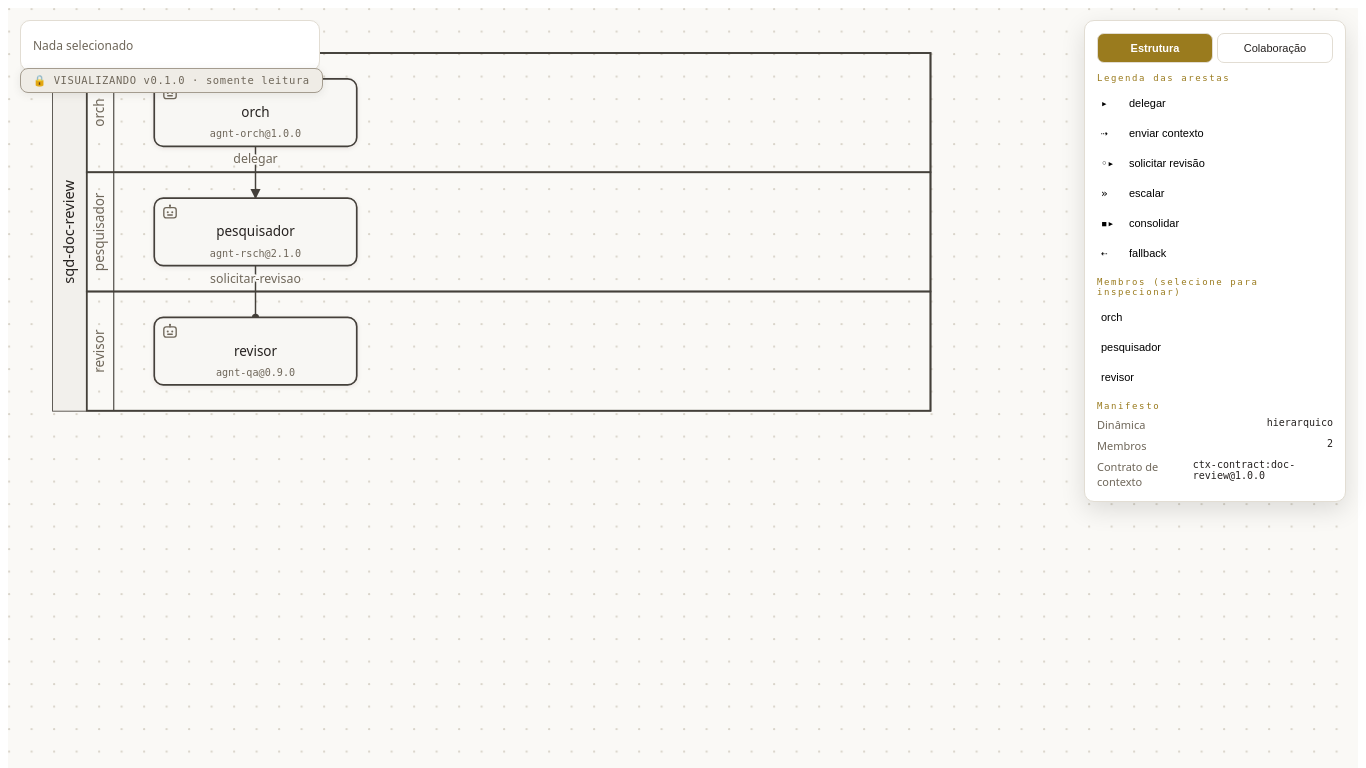
Test: SquadStudio — a standard BPMN diagram over the existing editor (SL-9) › Wave-3: the governance tab degrades without a context contract
The image size is (1366, 768).
Click the button "revisor": coordinates (1215, 377) [1097,363,1333,391]
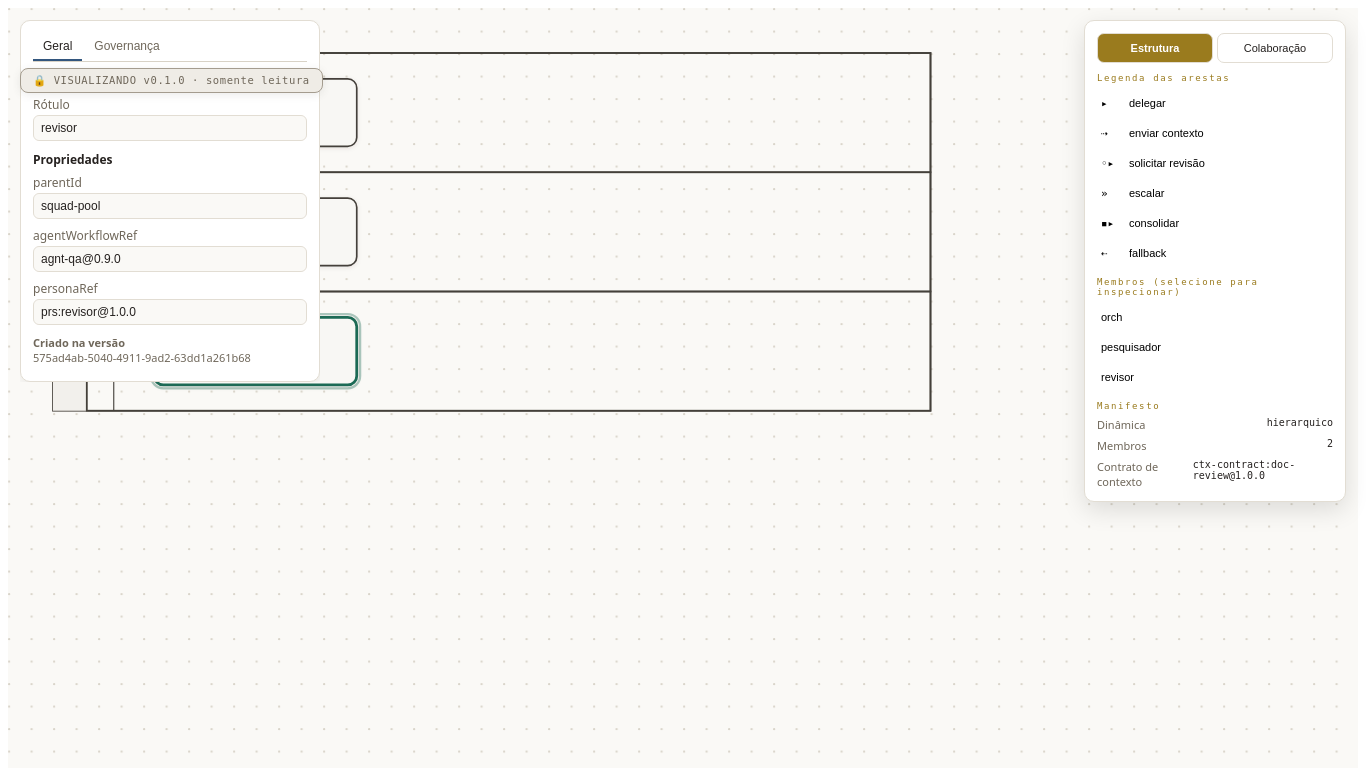
Click the tab "Governança": coordinates (127, 47) [84,33,170,61]
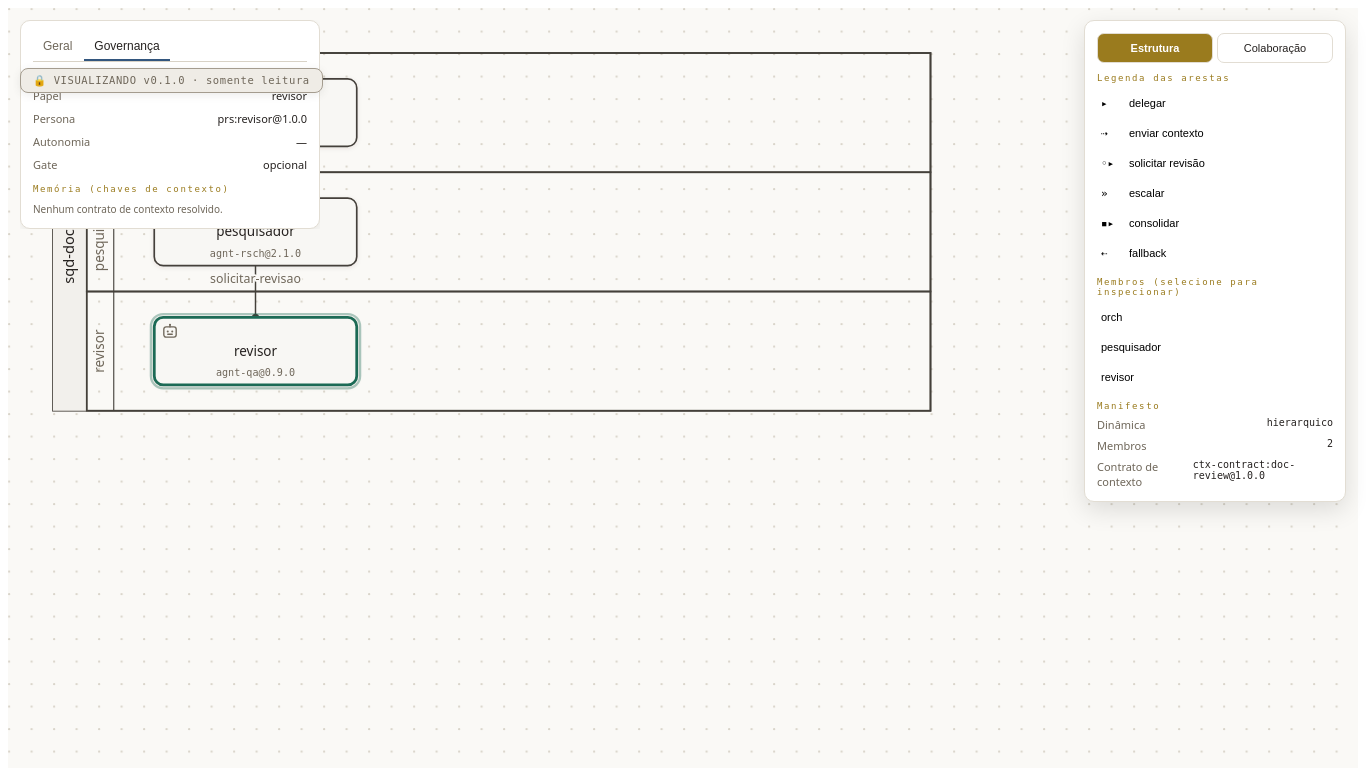
Expected: the element that starts with "Governança" shows "Nenhum contrato de contexto resolvido.", [33,202,223,216]
